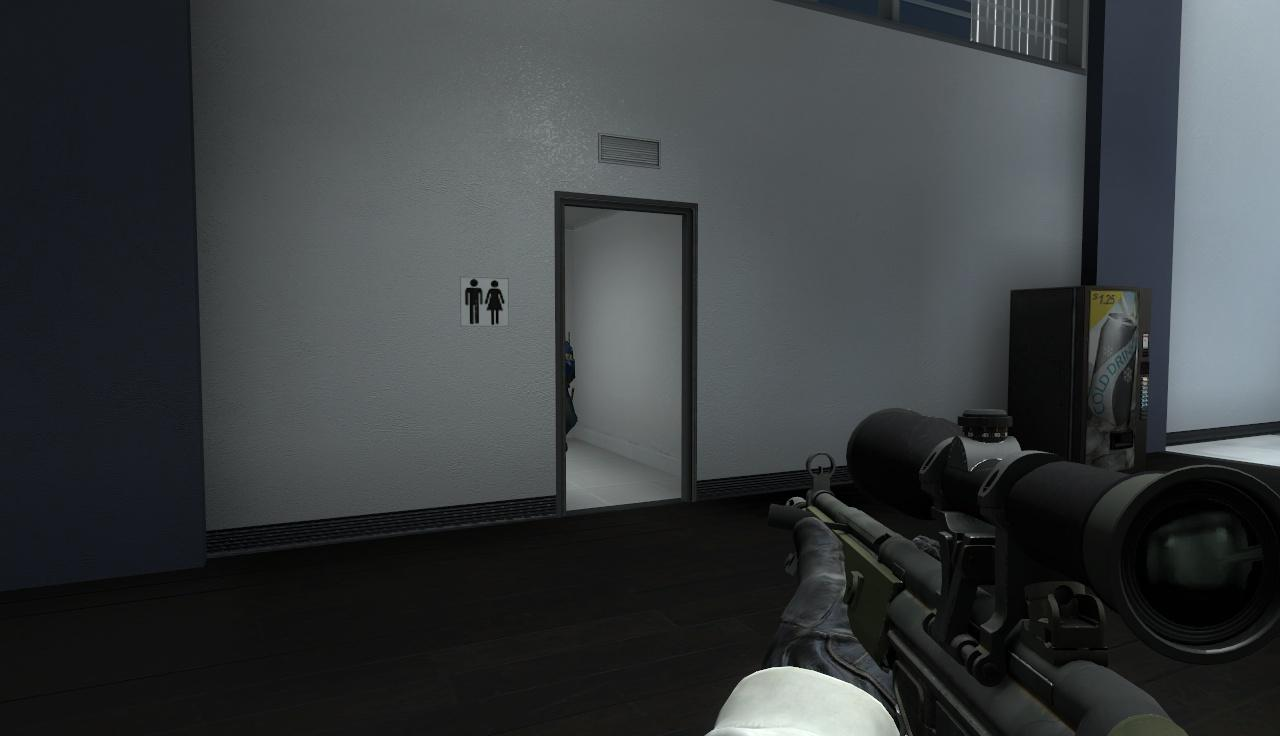ct: (564, 334, 577, 453)
sniper: (774, 403, 1280, 736)
